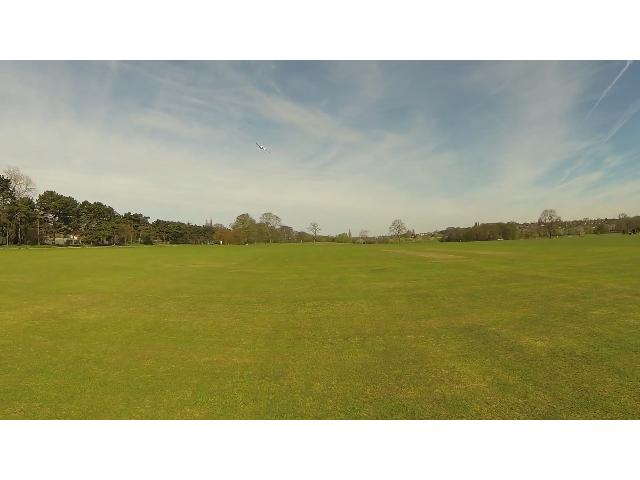Anti-Drone: (248, 139, 276, 160)
